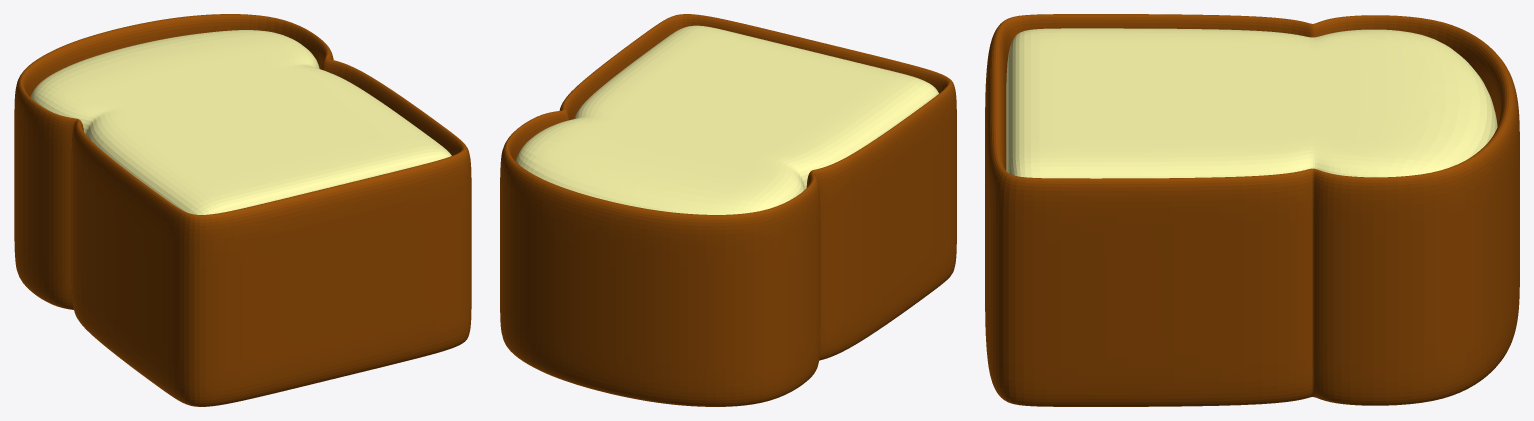
Rendered from 4pieceBread.fbx.
3 views of the same model, side by side, from view 1: azimuth 30°, elevation 25°; view 2: azimuth 150°, elevation 25°; view 3: azimuth 270°, elevation 25° (orthographic). The views are drawn at different scales.
Parts seen in each view (by area): view 1: Plane.001; view 2: Plane.001; view 3: Plane.001.
Part boxes in pixels (x1,y1,x2,y2): Plane.001: [14, 14, 471, 406]; Plane.001: [500, 14, 956, 406]; Plane.001: [985, 14, 1519, 406].
Bounding box in the file's own units: 217 × 137 × 286.
